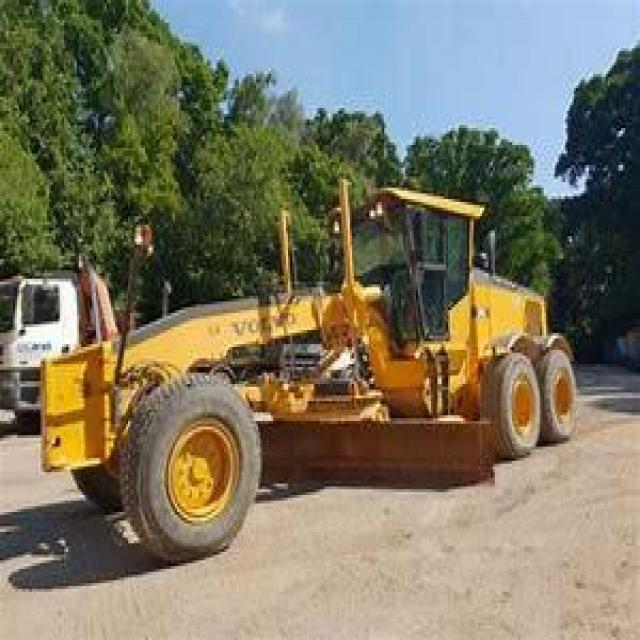Grader: (21, 165, 638, 566)
